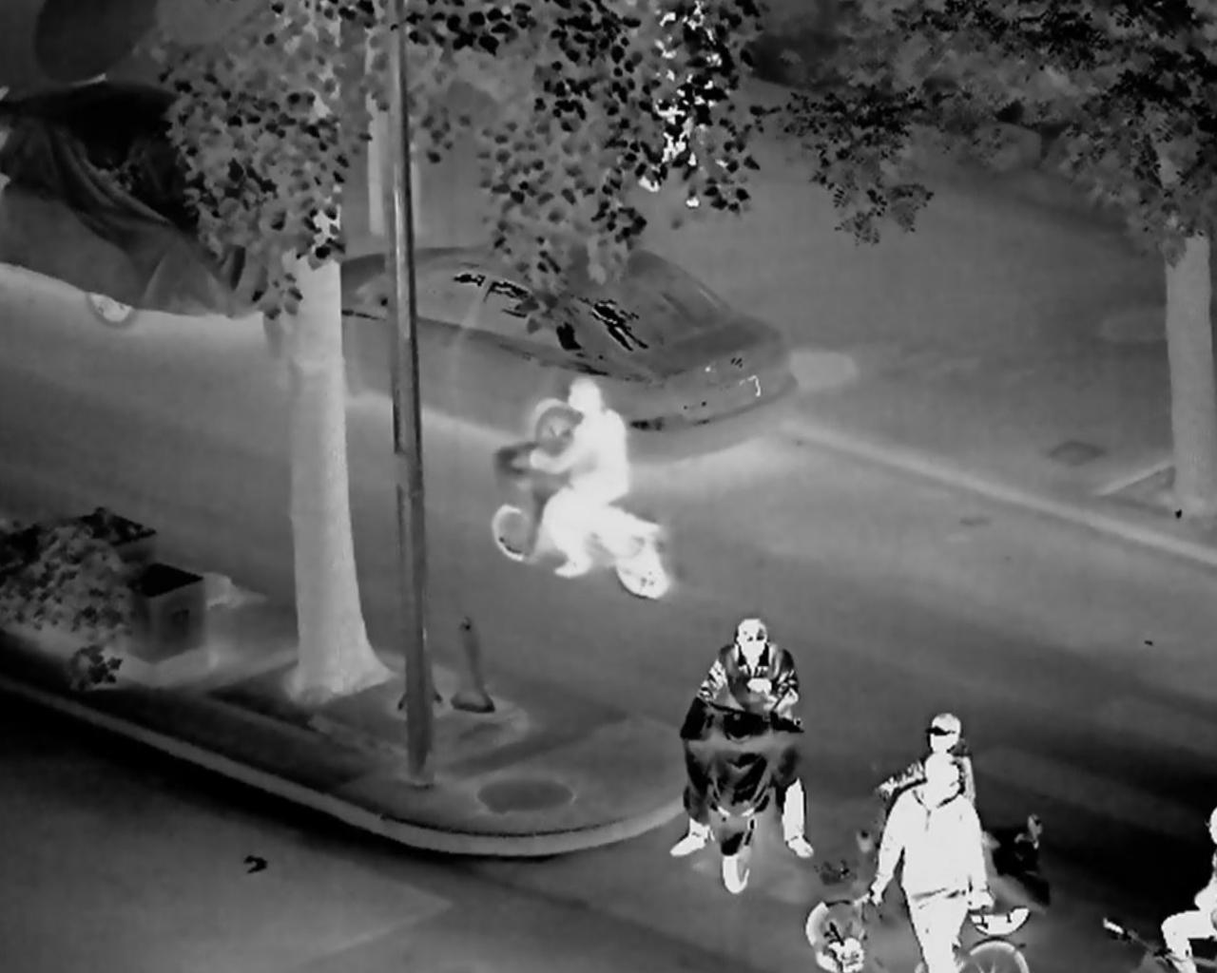person: (671, 611, 806, 873), (877, 758, 1006, 973), (524, 371, 635, 581), (647, 8, 728, 200), (882, 704, 966, 830), (1159, 804, 1217, 973)
